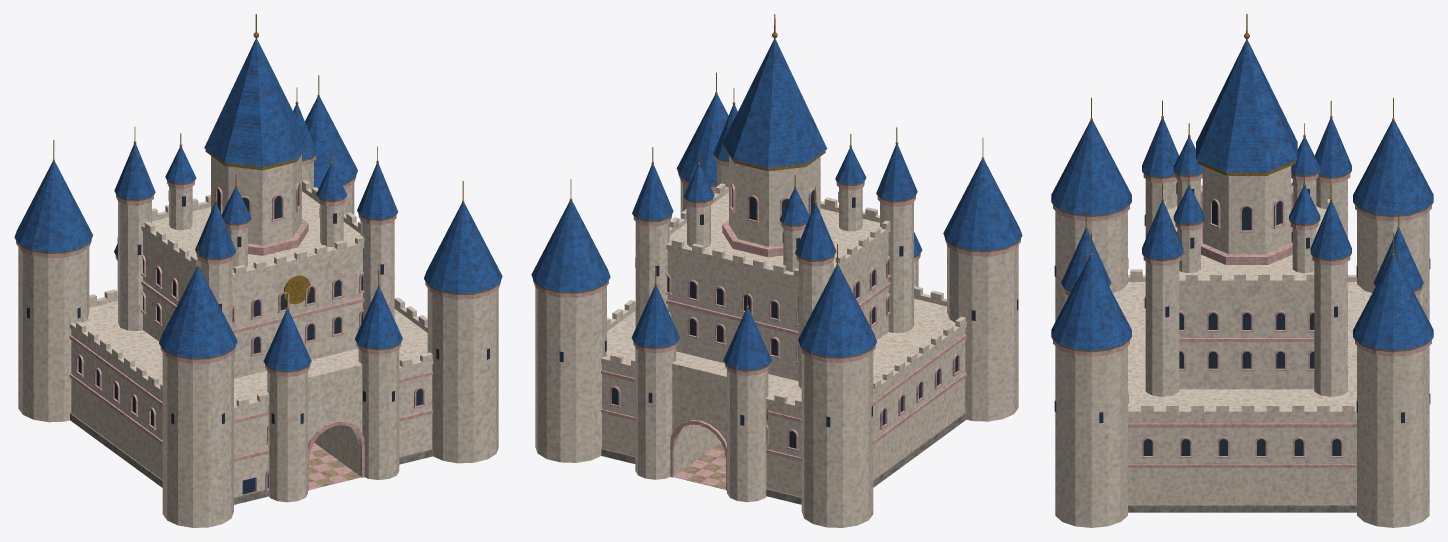
The model's file is Bld_MagicCastle.fbx.
3 views of the same model, side by side, from view 1: azimuth 30°, elevation 25°; view 2: azimuth 150°, elevation 25°; view 3: azimuth 270°, elevation 25° (orthographic). The views are drawn at different scales.
Parts seen in each view (by area): view 1: Tower_SW, Tower_SE, Tower_NW, Keep, Base_West_Shop, Spire, GateTower_SW, GateTower_SE, CentralTower, Base_East, KeepTurret_NW, KeepTurret_SE (+16 smaller); view 2: Tower_NW, Tower_NE, Tower_SW, Keep, Base_West_Shop, Spire, GateTower_NW, GateTower_NE, CentralTower, Base_East, KeepTurret_SW, KeepTurret_NE (+15 smaller); view 3: Base_East, Tower_NE, Tower_SE, Keep, Tower_NW, Tower_SW, Spire, CentralTower, KeepTurret_SE, KeepTurret_NE, Facade_E, Battlements_Base (+13 smaller).
Boxes of the visible parts, x1,y1,x2,y2 form: Tower_SW: (159,245,237,527); Tower_SE: (424,181,502,463); Tower_NW: (14,140,92,422); Keep: (143,191,362,378); Base_West_Shop: (71,301,268,497); Spire: (204,14,308,170); GateTower_SW: (263,292,311,502); GateTower_SE: (355,269,402,479); CentralTower: (211,154,308,255); Base_East: (314,309,432,473); KeepTurret_NW: (114,127,155,330); KeepTurret_SE: (357,146,397,319); Tower_NW: (798,244,876,527); Tower_NE: (531,179,610,462); Tower_SW: (943,138,1022,421); Keep: (667,192,888,381); Base_West_Shop: (766,298,965,496); Spire: (722,14,827,171); GateTower_NW: (723,290,771,502); GateTower_NE: (631,268,679,479); CentralTower: (722,155,820,257); Base_East: (602,311,720,473); KeepTurret_SW: (876,127,917,332); KeepTurret_NE: (632,147,673,327); Base_East: (1128,361,1356,504); Tower_NE: (1353,233,1433,527); Tower_SE: (1051,233,1131,527); Keep: (1167,206,1326,389); Tower_NW: (1353,98,1433,321); Tower_SW: (1051,98,1131,321); Spire: (1196,14,1297,175); CentralTower: (1200,166,1293,264); KeepTurret_SE: (1142,183,1183,396); KeepTurret_NE: (1310,183,1351,396); Facade_E: (1128,423,1356,467); Battlements_Base: (1128,269,1356,416).
Bounding box in the file's own units: 45.3 × 53.5 × 43.07.
